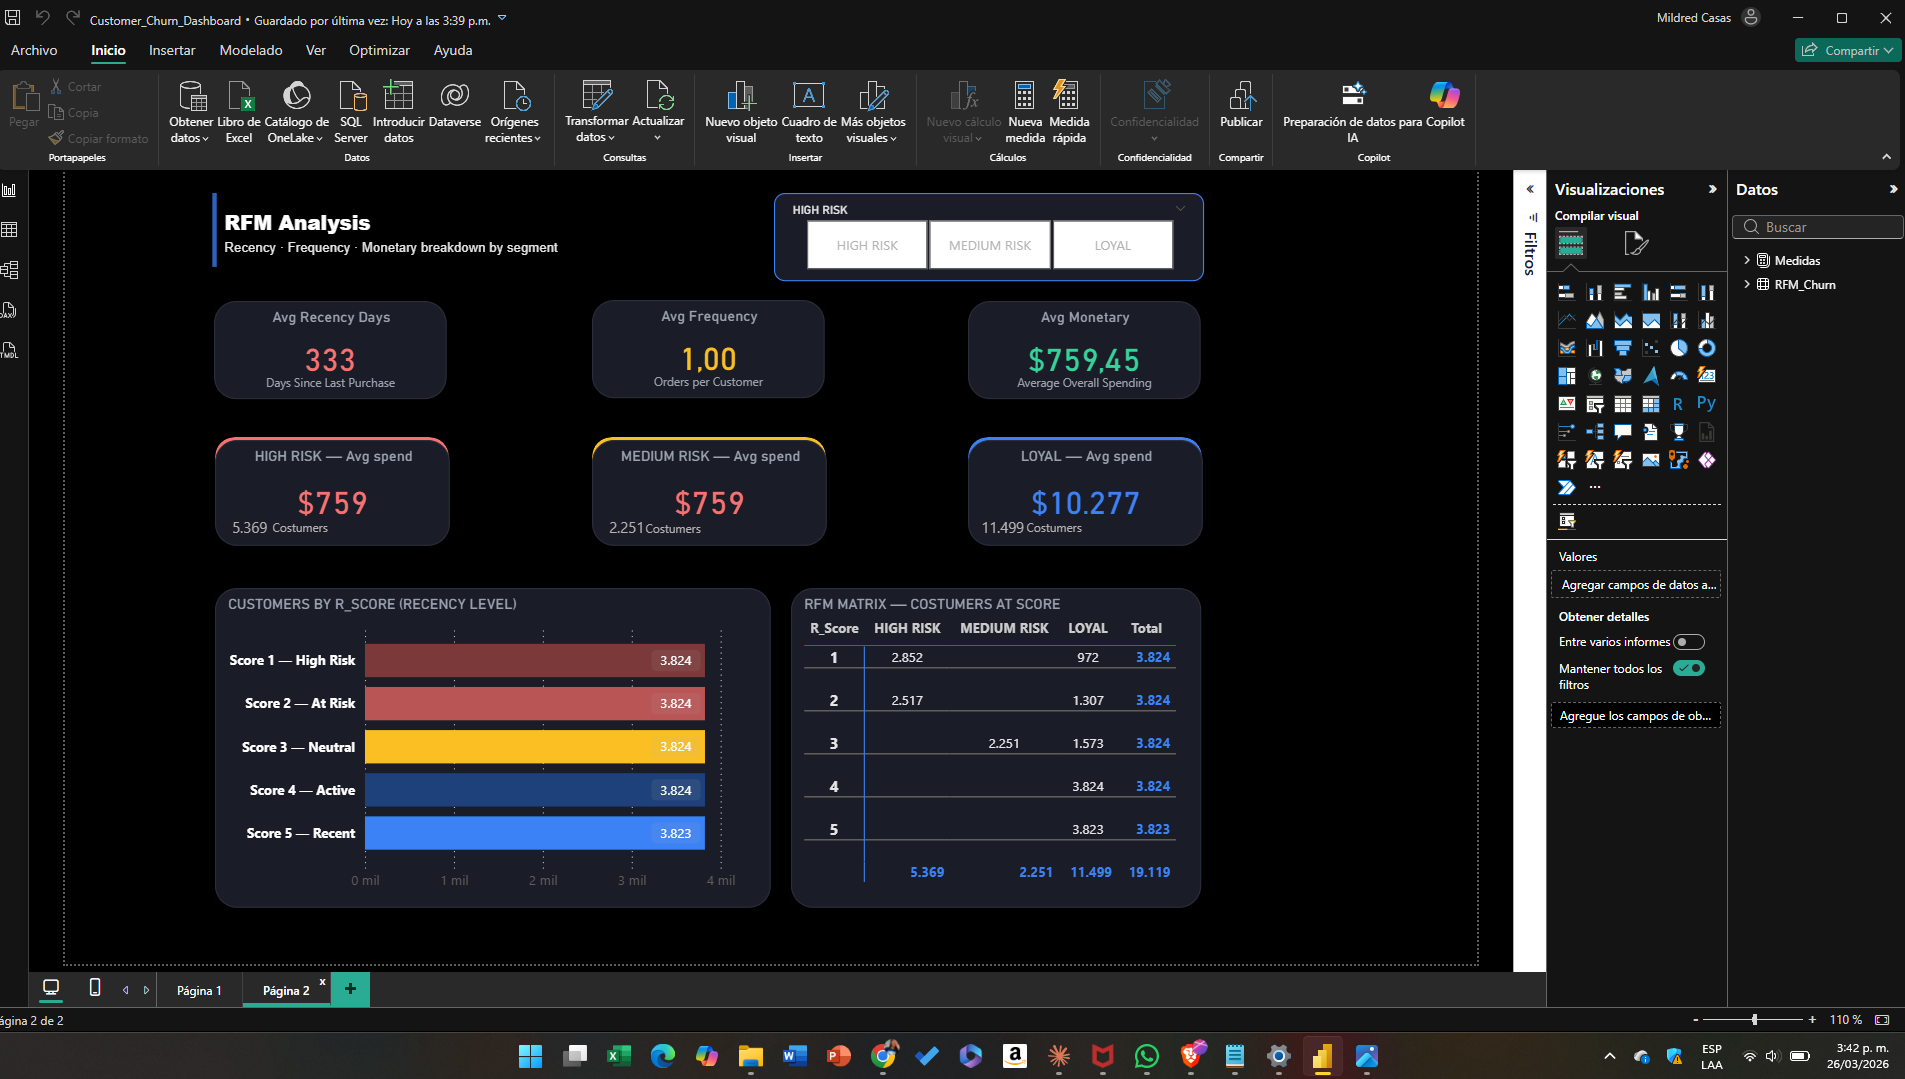

This screenshot's page, from the dashboard's own definition file:
{"tool":"powerbi","page":{"name":"Página 2","canvas":[1280,720],"ordinal":1},"visuals":[{"type":"textbox","box":[249.1,309.2,98.4,32],"z":0,"group":"g5"},{"type":"textbox","box":[931.8,309.2,98.4,32],"z":0,"group":"g6"},{"type":"textbox","box":[590.5,309.3,98.4,32],"z":0,"group":"g7"},{"type":"clusteredBarChart","title":"CUSTOMERS BY R_SCORE (RECENCY LEVEL)","fields":{"Category":["RFM_Churn.R_Score_Label"],"Y":["RFM_Churn.Total_Custumers"]},"box":[136.4,379.1,503.6,290],"z":0},{"type":"shape","box":[136.4,242.3,212.2,72.2],"z":500,"group":"g1"},{"type":"shape","box":[819.1,242.3,212.2,72.2],"z":500,"group":"g2"},{"type":"shape","box":[477.8,242.4,212.2,72.2],"z":500,"group":"g3"},{"type":"card","title":"Avg Frequency","fields":{"Values":["RFM_Churn.Avg Frequency"]},"box":[477.6,117.8,211.1,88.5],"z":1000,"group":"g9"},{"type":"card","title":"Avg Recency Days","fields":{"Values":["RFM_Churn.Avg Recency Days"]},"box":[135.5,119.1,211.1,88.5],"z":1000,"group":"g4"},{"type":"card","title":"Avg Monetary","fields":{"Values":["RFM_Churn.Avg Monetary"]},"box":[819.1,119.1,211.1,88.5],"z":1000,"group":"g11"},{"type":"group","id":"g1","title":"Grupo 2","box":[136.4,242.3,213.5,98.9],"z":1000,"group":"g5"},{"type":"group","id":"g2","title":"Grupo 2","box":[819.1,242.3,213.5,98.9],"z":1000,"group":"g6"},{"type":"group","id":"g3","title":"Grupo 2","box":[477.8,242.4,213.5,98.9],"z":1000,"group":"g7"},{"type":"card","title":"HIGH RISK — Avg spend","fields":{"Values":["RFM_Churn.Avg Value High Risk"]},"box":[136.5,245.1,213.3,96.1],"z":1000,"group":"g1"},{"type":"card","title":"LOYAL — Avg spend","fields":{"Values":["RFM_Churn.Avg Value Loyal"]},"box":[819.2,245.1,213.3,96.1],"z":1000,"group":"g2"},{"type":"card","title":"MEDIUM RISK — Avg spend","fields":{"Values":["RFM_Churn.Avg Value High Risk"]},"box":[477.9,245.2,213.3,96.1],"z":1000,"group":"g3"},{"type":"pivotTable","title":"RFM MATRIX — COSTUMERS AT SCORE","fields":{"Rows":["RFM_Churn.r_score"],"Values":["RFM_Churn.Clientes por Segmento"],"Columns":["RFM_Churn.HIGH RISK"]},"box":[658.2,379.1,371.8,290],"z":1000},{"type":"group","id":"g4","title":"Grupo 1","box":[135.5,119.1,211.8,88.2],"z":2000},{"type":"textbox","box":[477.6,177.1,211.1,29.2],"z":3000,"group":"g9"},{"type":"textbox","box":[135.5,178.4,211.1,29.2],"z":3000,"group":"g4"},{"type":"textbox","box":[819.1,178.4,211.1,29.2],"z":3000,"group":"g11"},{"type":"group","id":"g5","title":"Grupo 1","box":[136.4,242.3,213.5,98.9],"z":3000,"group":"g8"},{"type":"group","id":"g6","title":"Grupo 1","box":[819.1,242.3,213.5,98.9],"z":3000,"group":"g12"},{"type":"group","id":"g7","title":"Grupo 1","box":[477.8,242.4,213.5,98.9],"z":3000,"group":"g10"},{"type":"card","title":"Avg Recency Days","fields":{"Values":["RFM_Churn.Clientes HIGH RISK"]},"box":[136.6,312.8,62.8,25.6],"z":4000,"group":"g8"},{"type":"card","title":"Avg Recency Days","fields":{"Values":["RFM_Churn.Clientes LOYAL"]},"box":[819.3,312.8,62.8,25.6],"z":4000,"group":"g12"},{"type":"card","title":"Avg Recency Days","fields":{"Values":["RFM_Churn.Clientes MEDIUM RISK"]},"box":[478,312.9,62.8,25.6],"z":4000,"group":"g10"},{"type":"group","id":"g8","title":"Grupo 3","box":[136.4,242.3,213.6,99.1],"z":4001,"group":"g15"},{"type":"textbox","box":[183.7,309.6,67.3,30],"z":4501,"group":"g15"},{"type":"group","id":"g9","title":"Grupo 1","box":[477.6,117.8,211.1,88.5],"z":4502},{"type":"group","id":"g10","title":"Grupo 3","box":[477.8,242.4,213.5,98.9],"z":4503,"group":"g14"},{"type":"group","id":"g11","title":"Grupo 1","box":[819.1,119.1,210.9,88.2],"z":4504},{"type":"group","id":"g12","title":"Grupo 3","box":[819.1,242.3,213.5,98.9],"z":4505,"group":"g13"},{"type":"textbox","box":[521.3,310.1,66.5,30],"z":4506,"group":"g14"},{"type":"textbox","box":[867.5,309.1,66.5,30],"z":4507,"group":"g13"},{"type":"group","id":"g13","title":"Grupo 4","box":[819.1,242.3,213.6,99.1],"z":4508},{"type":"group","id":"g14","title":"Grupo 5","box":[477.8,242.4,213.5,98.9],"z":4509},{"type":"group","id":"g15","title":"Grupo 6","box":[136.4,242.3,213.6,99.1],"z":4510},{"type":"textbox","box":[140,29.1,446.4,88.2],"z":4511},{"type":"shape","box":[120,20.9,31.8,67.3],"z":4512},{"type":"slicer","fields":{"Values":["RFM_Churn.HIGH RISK"]},"box":[642.7,20.9,390,80],"z":4513}]}

Visuals, with their boxes on the page's 1280x720 design canvas (x1, y1, x2, y2). These are canvas units, not pixel positions in the 1905x1079 screenshot, which may show the page scaled, cropped or inside an application window:
textbox: <region>249, 309, 348, 341</region>
textbox: <region>932, 309, 1030, 341</region>
textbox: <region>590, 309, 689, 341</region>
"CUSTOMERS BY R_SCORE (RECENCY LEVEL)" clusteredBarChart: <region>136, 379, 640, 669</region>
shape: <region>136, 242, 349, 314</region>
shape: <region>819, 242, 1031, 314</region>
shape: <region>478, 242, 690, 315</region>
"Avg Frequency" card: <region>478, 118, 689, 206</region>
"Avg Recency Days" card: <region>136, 119, 347, 208</region>
"Avg Monetary" card: <region>819, 119, 1030, 208</region>
"Grupo 2" group: <region>136, 242, 350, 341</region>
"Grupo 2" group: <region>819, 242, 1033, 341</region>
"Grupo 2" group: <region>478, 242, 691, 341</region>
"HIGH RISK — Avg spend" card: <region>136, 245, 350, 341</region>
"LOYAL — Avg spend" card: <region>819, 245, 1032, 341</region>
"MEDIUM RISK — Avg spend" card: <region>478, 245, 691, 341</region>
"RFM MATRIX — COSTUMERS AT SCORE" pivotTable: <region>658, 379, 1030, 669</region>
"Grupo 1" group: <region>136, 119, 347, 207</region>
textbox: <region>478, 177, 689, 206</region>
textbox: <region>136, 178, 347, 208</region>
textbox: <region>819, 178, 1030, 208</region>
"Grupo 1" group: <region>136, 242, 350, 341</region>
"Grupo 1" group: <region>819, 242, 1033, 341</region>
"Grupo 1" group: <region>478, 242, 691, 341</region>
"Avg Recency Days" card: <region>137, 313, 199, 338</region>
"Avg Recency Days" card: <region>819, 313, 882, 338</region>
"Avg Recency Days" card: <region>478, 313, 541, 338</region>
"Grupo 3" group: <region>136, 242, 350, 341</region>
textbox: <region>184, 310, 251, 340</region>
"Grupo 1" group: <region>478, 118, 689, 206</region>
"Grupo 3" group: <region>478, 242, 691, 341</region>
"Grupo 1" group: <region>819, 119, 1030, 207</region>
"Grupo 3" group: <region>819, 242, 1033, 341</region>
textbox: <region>521, 310, 588, 340</region>
textbox: <region>868, 309, 934, 339</region>
"Grupo 4" group: <region>819, 242, 1033, 341</region>
"Grupo 5" group: <region>478, 242, 691, 341</region>
"Grupo 6" group: <region>136, 242, 350, 341</region>
textbox: <region>140, 29, 586, 117</region>
shape: <region>120, 21, 152, 88</region>
slicer - RFM_Churn.HIGH RISK: <region>643, 21, 1033, 101</region>
